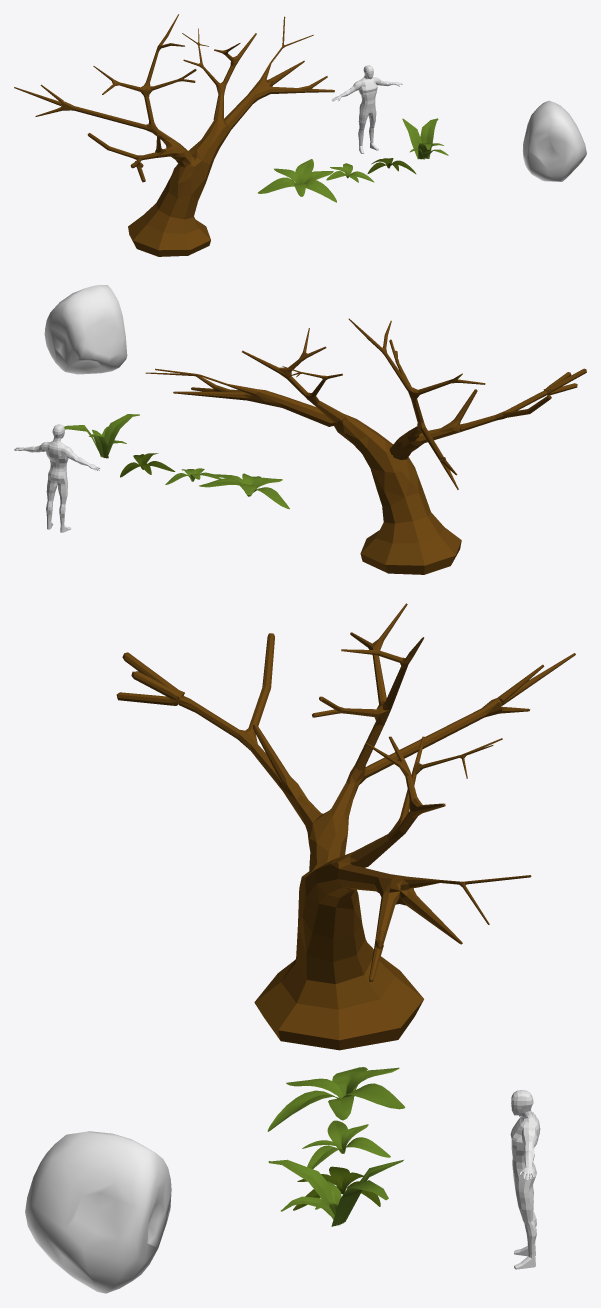
The model's file is creature-assets-01.fbx.
3 renders of one model, top to bottom at view 1: azimuth 30°, elevation 25°; view 2: azimuth 150°, elevation 25°; view 3: azimuth 270°, elevation 25°, orthographic. The views are drawn at different scales.
Visible parts, largest first — view 1: Cube.007, Cube.008, Char.001, Pflanze.001, Cube.009, Pflanze, Pflanze.002; view 2: Cube.007, Cube.008, Char.001, Pflanze.001, Cube.009, Pflanze.002; view 3: Cube.007, Cube.008, Char.001, Pflanze.001, Cube.009, Pflanze, Pflanze.002.
Boxes of the visible parts, x1=… form: Cube.007: x1=14, y1=14, x2=334, y2=256; Cube.008: x1=522, y1=100, x2=586, y2=181; Char.001: x1=332, y1=65, x2=402, y2=153; Pflanze.001: x1=258, y1=159, x2=336, y2=202; Cube.009: x1=402, y1=118, x2=448, y2=159; Pflanze: x1=326, y1=163, x2=374, y2=182; Pflanze.002: x1=367, y1=158, x2=416, y2=174; Cube.007: x1=145, y1=318, x2=586, y2=574; Cube.008: x1=44, y1=285, x2=127, y2=374; Char.001: x1=14, y1=424, x2=100, y2=532; Pflanze.001: x1=199, y1=473, x2=289, y2=509; Cube.009: x1=64, y1=414, x2=139, y2=458; Pflanze.002: x1=120, y1=453, x2=175, y2=477; Cube.007: x1=116, y1=603, x2=575, y2=1050; Cube.008: x1=25, y1=1131, x2=171, y2=1293; Char.001: x1=510, y1=1090, x2=540, y2=1269; Pflanze.001: x1=267, y1=1067, x2=405, y2=1131; Cube.009: x1=268, y1=1159, x2=403, y2=1226; Pflanze: x1=302, y1=1120, x2=390, y2=1168; Pflanze.002: x1=293, y1=1166, x2=380, y2=1210.
Size of the model in its own units: 1118 by 491 by 590.
